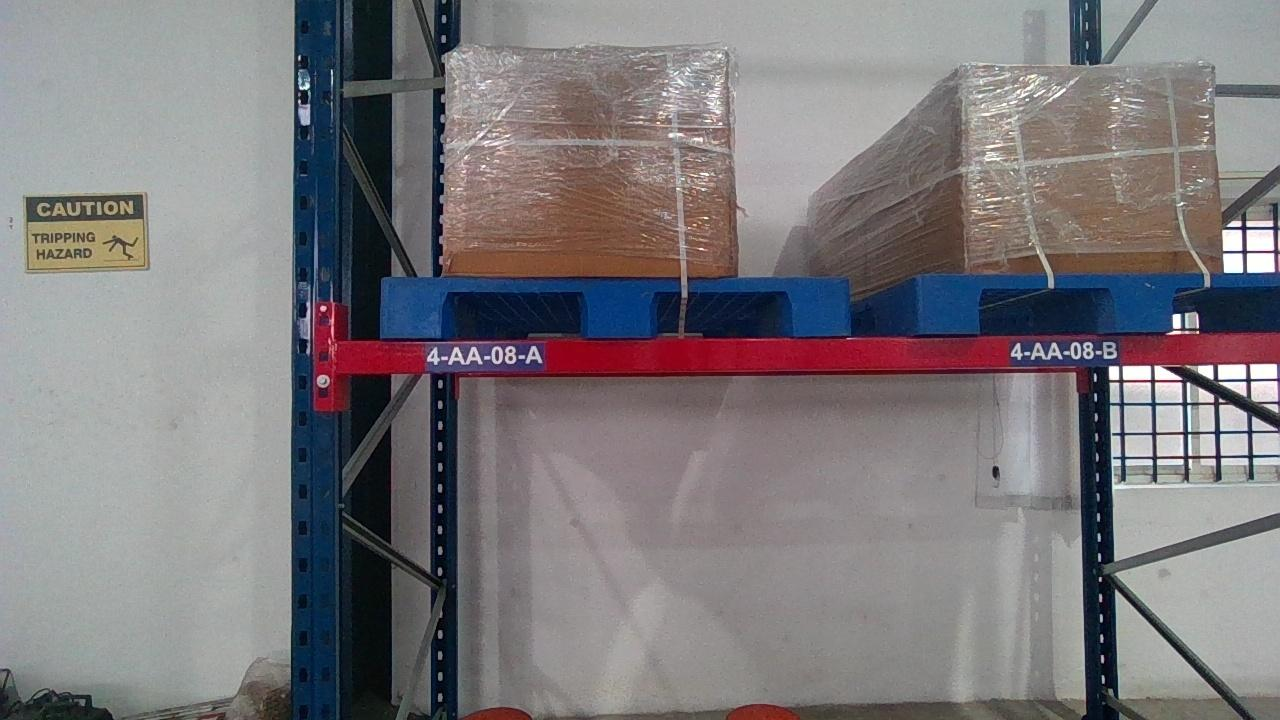h_rack: (335, 332, 1279, 371)
small_pallet: (378, 276, 848, 335), (918, 272, 1279, 330)
